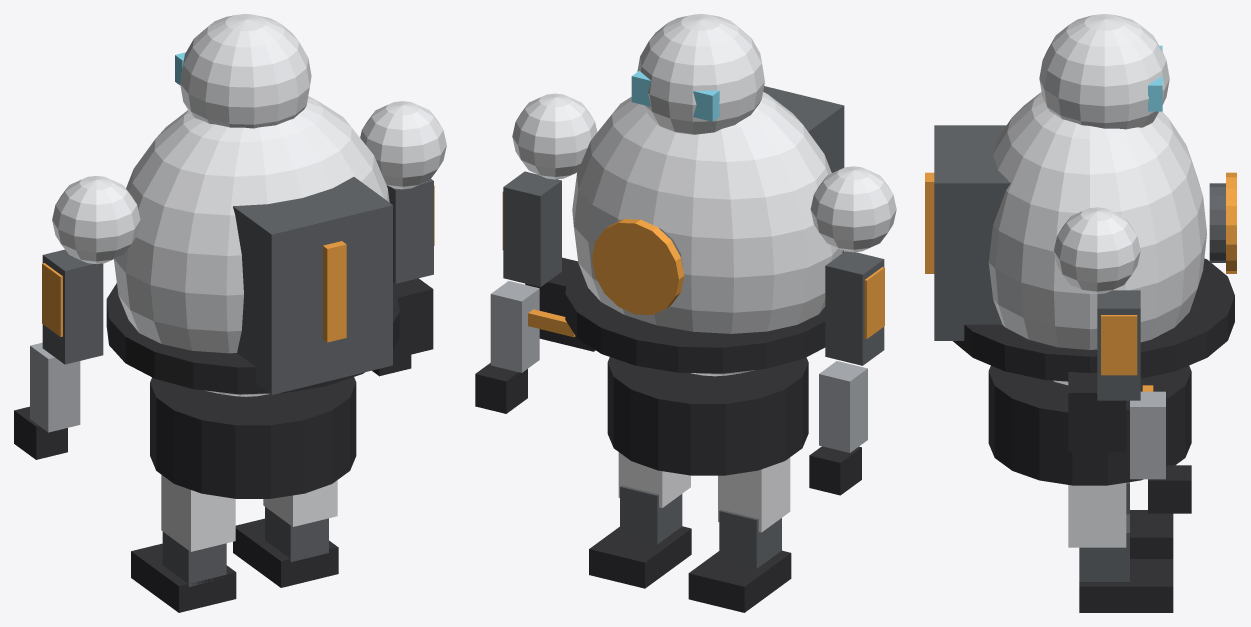
The model's file is SM_Unit_EngineerBot.fbx.
3 renders of one model, left to right at view 1: azimuth 30°, elevation 25°; view 2: azimuth 150°, elevation 25°; view 3: azimuth 270°, elevation 25°, orthographic. The views are drawn at different scales.
Visible parts, largest first — view 1: SM_Unit_EngineerBot; view 2: SM_Unit_EngineerBot; view 3: SM_Unit_EngineerBot.
Part boxes in pixels (x1,y1,x2,y2): SM_Unit_EngineerBot: (14,14,446,612); SM_Unit_EngineerBot: (475,14,896,612); SM_Unit_EngineerBot: (925,14,1236,612).
Size of the model in its own units: 1.2 by 1.69 by 0.86.
